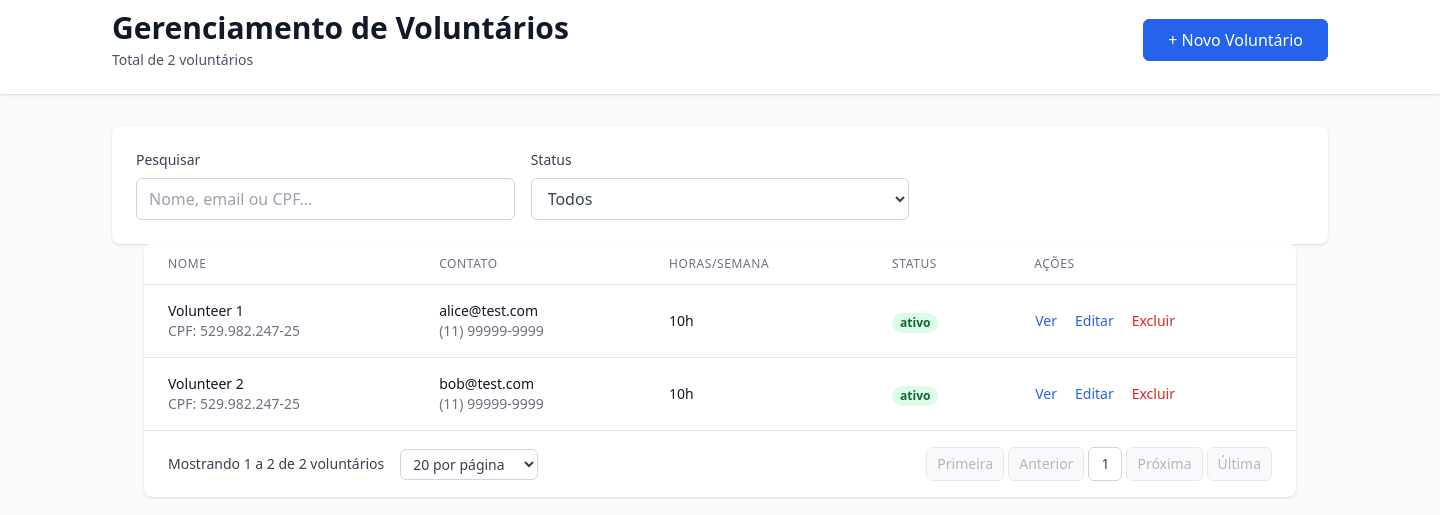
ONGVolunteersPage › Filtering › should filter volunteers by search term (email)
Expected: the text "alice@test.com" is shown, [439, 301, 538, 320]
Expected: the text "bob@test.com" is shown, [439, 374, 534, 393]
Type "alice@" into the field with placeholder "Nome, email ou CPF...".
click(325, 199); type("alice@")  # box [136, 178, 515, 220]
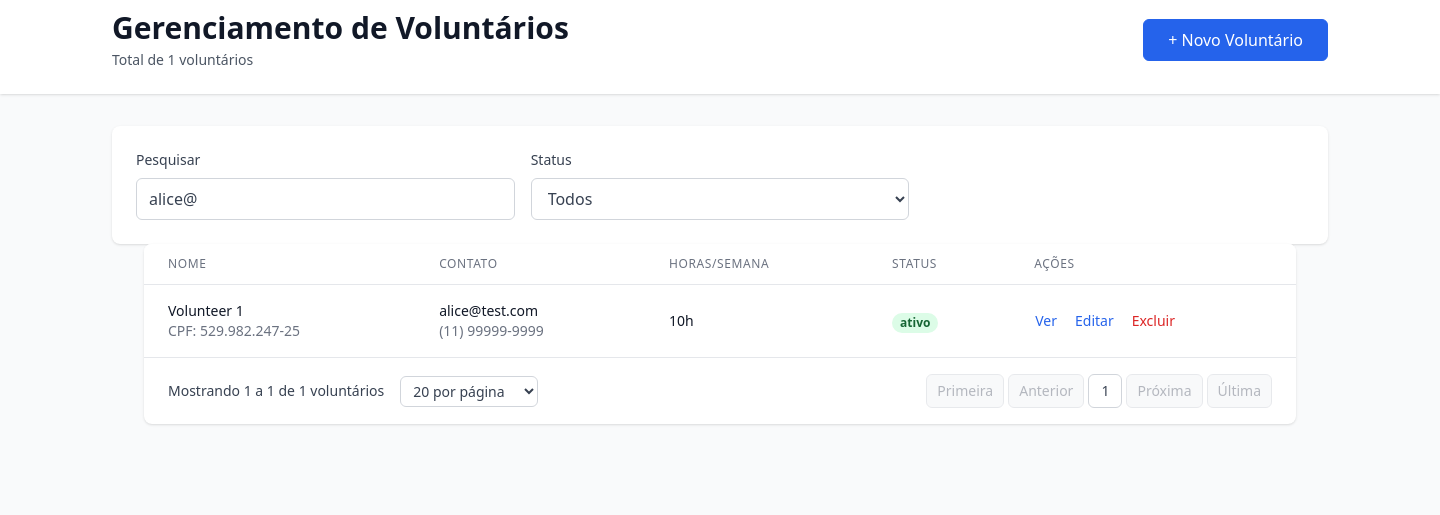
Expected: the text "alice@test.com" is shown, [439, 301, 538, 320]
Expected: the text "bob@test.com" is gone
